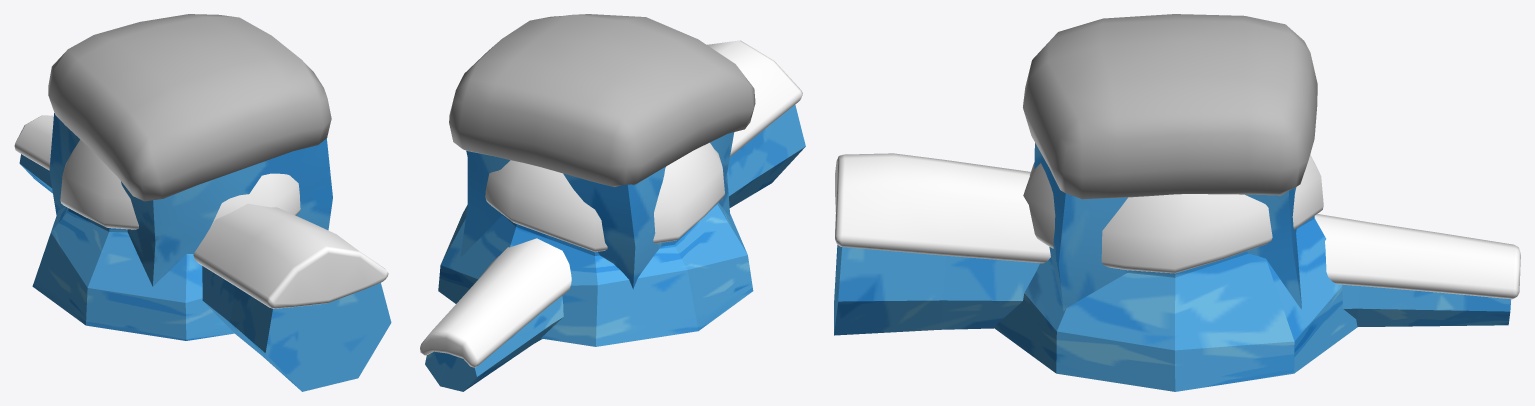
File: Ice dressing.fbx
3 views of the same model, side by side, from view 1: azimuth 30°, elevation 25°; view 2: azimuth 150°, elevation 25°; view 3: azimuth 270°, elevation 25° (orthographic). The views are drawn at different scales.
Parts seen in each view (by area): view 1: Snow_Cap (×3), Ice_Nub, Fallen_Icicle, Ice_Cube; view 2: Snow_Cap (×3), Ice_Nub, Ice_Cube, Fallen_Icicle; view 3: Snow_Cap (×3), Ice_Nub, Fallen_Icicle, Ice_Cube.
Part boxes in pixels (x1,y1,x2,y2): Snow_Cap (×3): (14, 14, 388, 308); Ice_Nub: (32, 207, 234, 340); Fallen_Icicle: (19, 154, 391, 391); Ice_Cube: (49, 113, 332, 286); Snow_Cap (×3): (420, 14, 802, 367); Ice_Nub: (438, 202, 753, 346); Ice_Cube: (460, 132, 734, 289); Fallen_Icicle: (425, 105, 805, 391); Snow_Cap (×3): (835, 14, 1520, 299); Ice_Nub: (993, 216, 1357, 391); Fallen_Icicle: (834, 245, 1511, 335); Ice_Cube: (1034, 143, 1301, 311).
Size of the model in its own units: 10.73 by 9.34 by 20.52.
